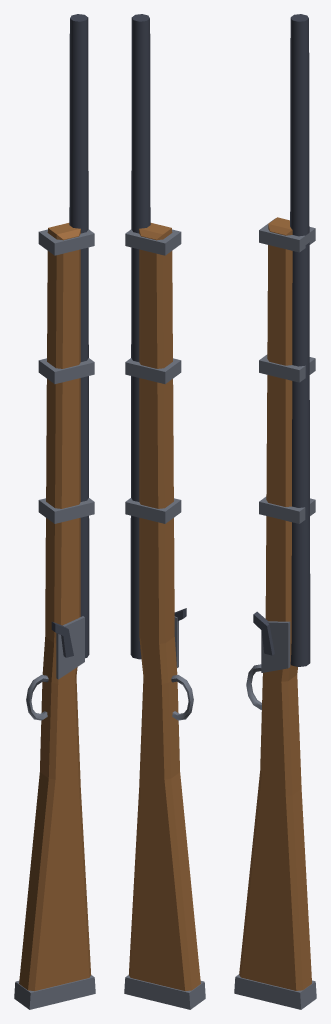
Rendered from weapon-flintlock-musket.glb.
3 renders of one model, left to right at view 1: azimuth 30°, elevation 25°; view 2: azimuth 150°, elevation 25°; view 3: azimuth 330°, elevation 25°, orthographic.
Visible parts, largest first — view 1: Musket stock, Musket barrel, Musket bands, Musket butt plate, Musket lock, Musket guard, Musket hammer; view 2: Musket stock, Musket barrel, Musket bands, Musket butt plate, Musket guard; view 3: Musket stock, Musket barrel, Musket bands, Musket butt plate, Musket lock, Musket hammer, Musket guard.
Part boxes in pixels (left/top/right/bottom): Musket stock: left=19, top=223, right=91, bottom=991; Musket barrel: left=69, top=14, right=89, bottom=658; Musket bands: left=38, top=229, right=94, bottom=523; Musket butt plate: left=14, top=975, right=95, bottom=1009; Musket lock: left=56, top=616, right=84, bottom=679; Musket guard: left=26, top=675, right=48, bottom=720; Musket hammer: left=51, top=621, right=73, bottom=657; Musket stock: left=128, top=223, right=200, bottom=991; Musket barrel: left=130, top=14, right=150, bottom=659; Musket bands: left=125, top=229, right=181, bottom=523; Musket butt plate: left=124, top=975, right=205, bottom=1009; Musket guard: left=171, top=675, right=193, bottom=720; Musket stock: left=239, top=217, right=311, bottom=990; Musket barrel: left=290, top=14, right=310, bottom=666; Musket bands: left=259, top=218, right=315, bottom=523; Musket butt plate: left=234, top=974, right=316, bottom=1009; Musket lock: left=261, top=621, right=290, bottom=672; Musket hammer: left=253, top=611, right=274, bottom=655; Musket guard: left=246, top=664, right=261, bottom=710.
Size of the model in its own units: 0.124 by 1.74 by 0.062.
